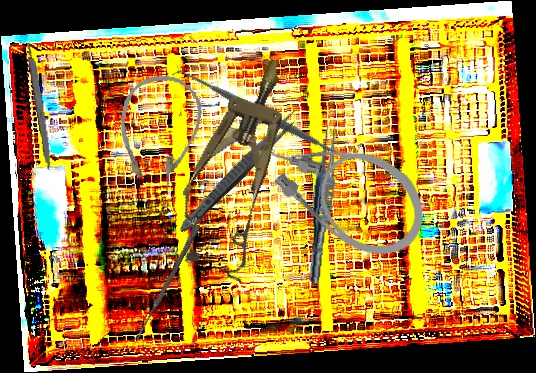Cannula: (246, 99, 443, 275), (110, 69, 207, 195)
Dressing Forceps: (174, 105, 303, 239)
Scalpel Handle: (25, 40, 55, 171)
Spatula Surgical: (170, 57, 363, 174)
Speculum: (161, 45, 316, 284)
Surgical Spoon: (133, 224, 201, 342)
Tissue Forceps: (305, 122, 341, 284)
